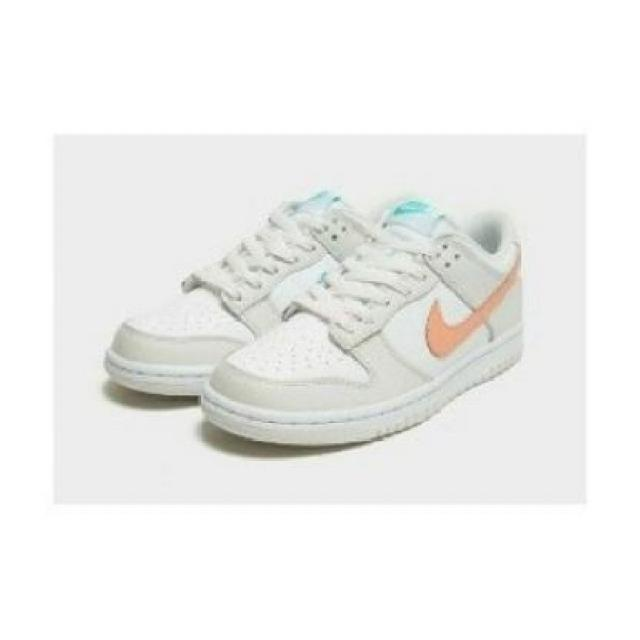Nike: (424, 258, 518, 363)
